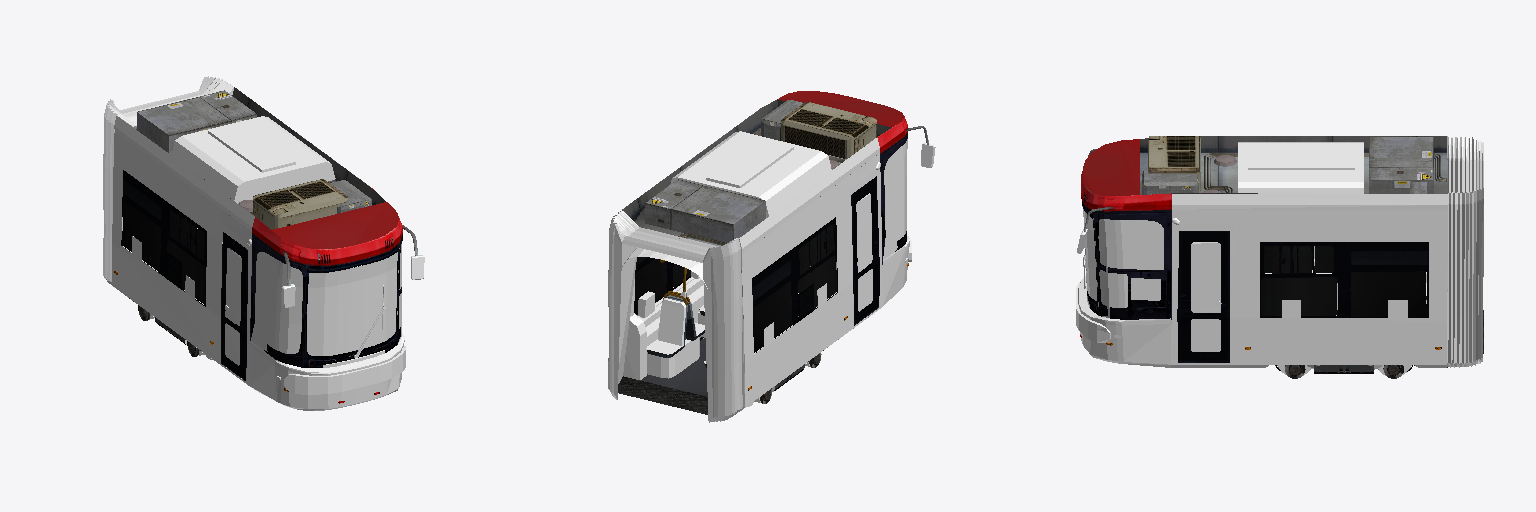
The picture shows the model from 3 angles: view 1: azimuth 30°, elevation 25°; view 2: azimuth 150°, elevation 25°; view 3: azimuth 270°, elevation 25°; orthographic projection.
Parts seen in each view (by area): view 1: body, okno, d_rr, ds_rr; view 2: body, salon, okno, d_rr, ds_rr; view 3: body, okno, d_ll, ds_ll.
Boxes of the visible parts, box(x1,y1,x2,y2) form: body: box(103, 76, 424, 410); okno: box(121, 170, 401, 355); d_rr: box(221, 232, 247, 380); ds_rr: box(225, 248, 241, 365); body: box(608, 91, 935, 422); salon: box(618, 247, 882, 414); okno: box(634, 139, 907, 352); d_rr: box(851, 176, 879, 325); ds_rr: box(856, 193, 872, 311); body: box(1076, 136, 1483, 378); okno: box(1082, 206, 1428, 317); d_ll: box(1177, 231, 1229, 362); ds_ll: box(1191, 242, 1220, 351).
Bounding box in the file's own units: 2.75 × 3.78 × 6.98.
Materials: 77 (27 with a texture image).